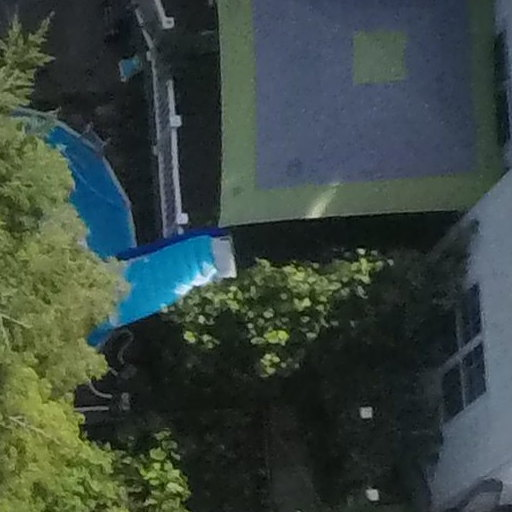pool: (1, 99, 150, 359)
umbrella: (208, 1, 510, 248)
